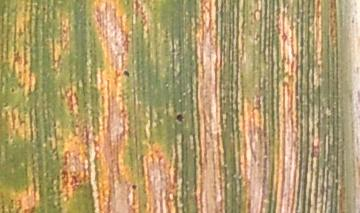tarspot: (174, 112, 186, 124), (120, 69, 131, 78), (129, 182, 138, 191)
